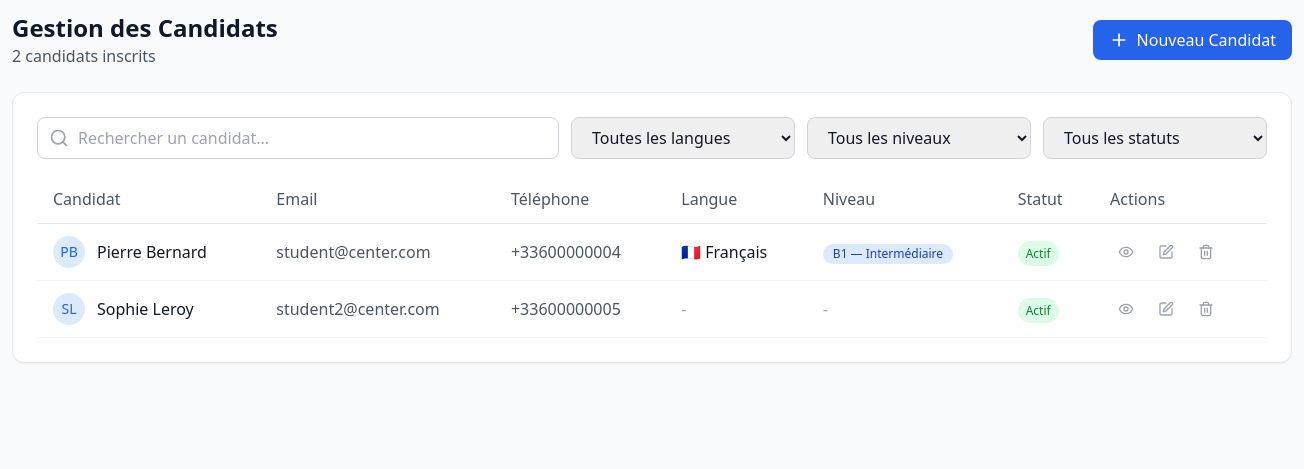
Test: Students page › filters by level
Expected: the text "Pierre Bernard" is shown, left=97, top=240, right=207, bottom=264
Select "A2 — Élémentaire" in the dropdown named "Filtrer par niveau" at (919, 138), box left=807, top=117, right=1031, bottom=159
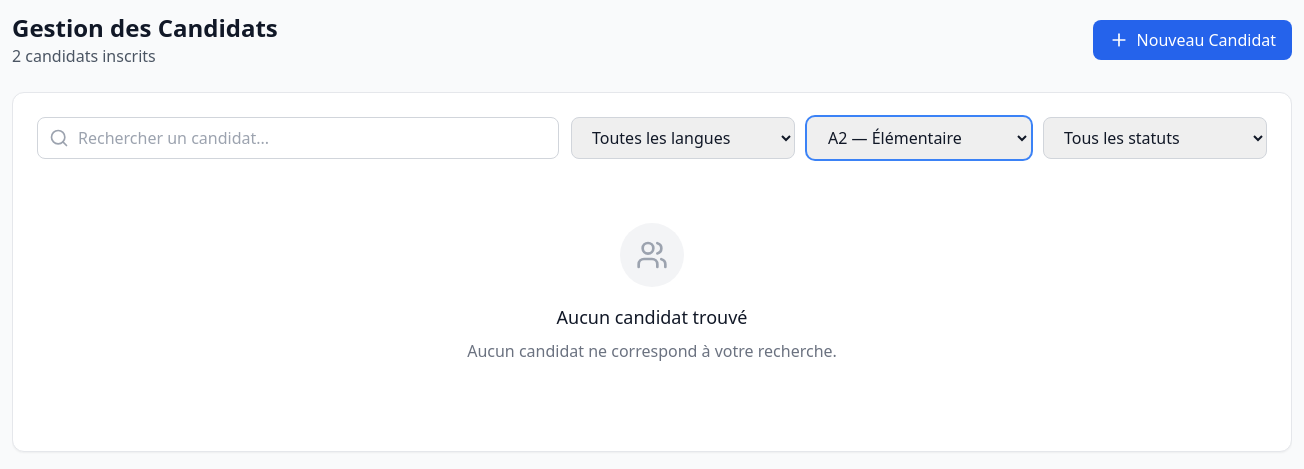
Result: the text "Pierre Bernard" is gone
